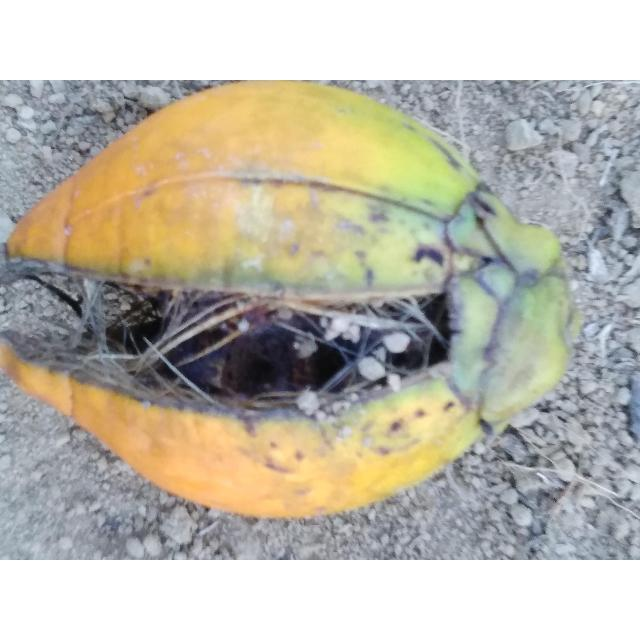damaged: (0, 81, 580, 517)
